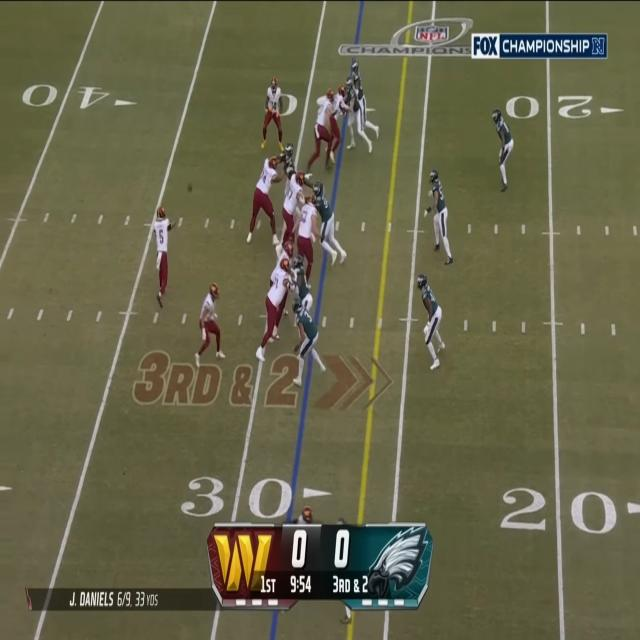Ball: (187, 182, 194, 194)
